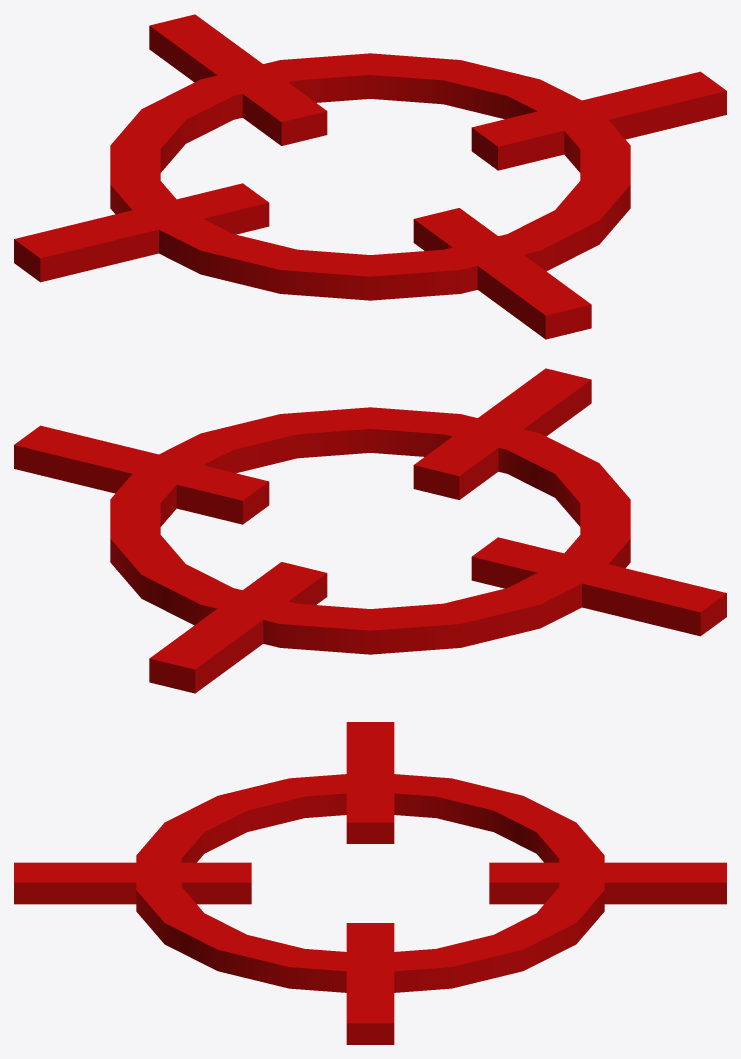
The model's file is reticule.obj.
3 renders of one model, top to bottom at view 1: azimuth 30°, elevation 25°; view 2: azimuth 150°, elevation 25°; view 3: azimuth 270°, elevation 25°, orthographic. The views are drawn at different scales.
Visible parts, largest first — view 1: Cylinder002; view 2: Cylinder002; view 3: Cylinder002.
Boxes of the visible parts, box(x1,y1,x2,y2) form: Cylinder002: box(14, 14, 726, 339); Cylinder002: box(14, 368, 726, 693); Cylinder002: box(14, 722, 726, 1044).
Size of the model in its own units: 60 by 2 by 60.
